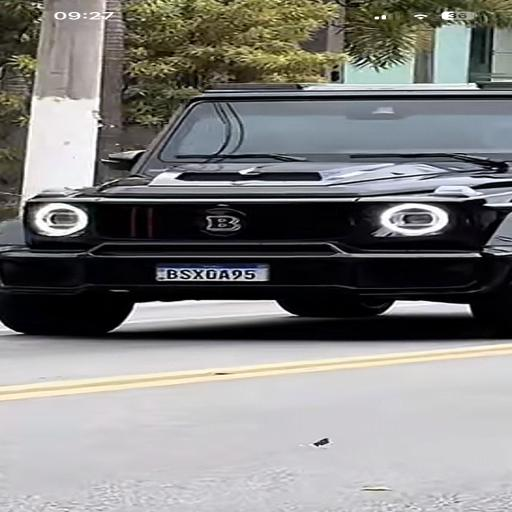detec-o-placas: (102, 208, 330, 316)
